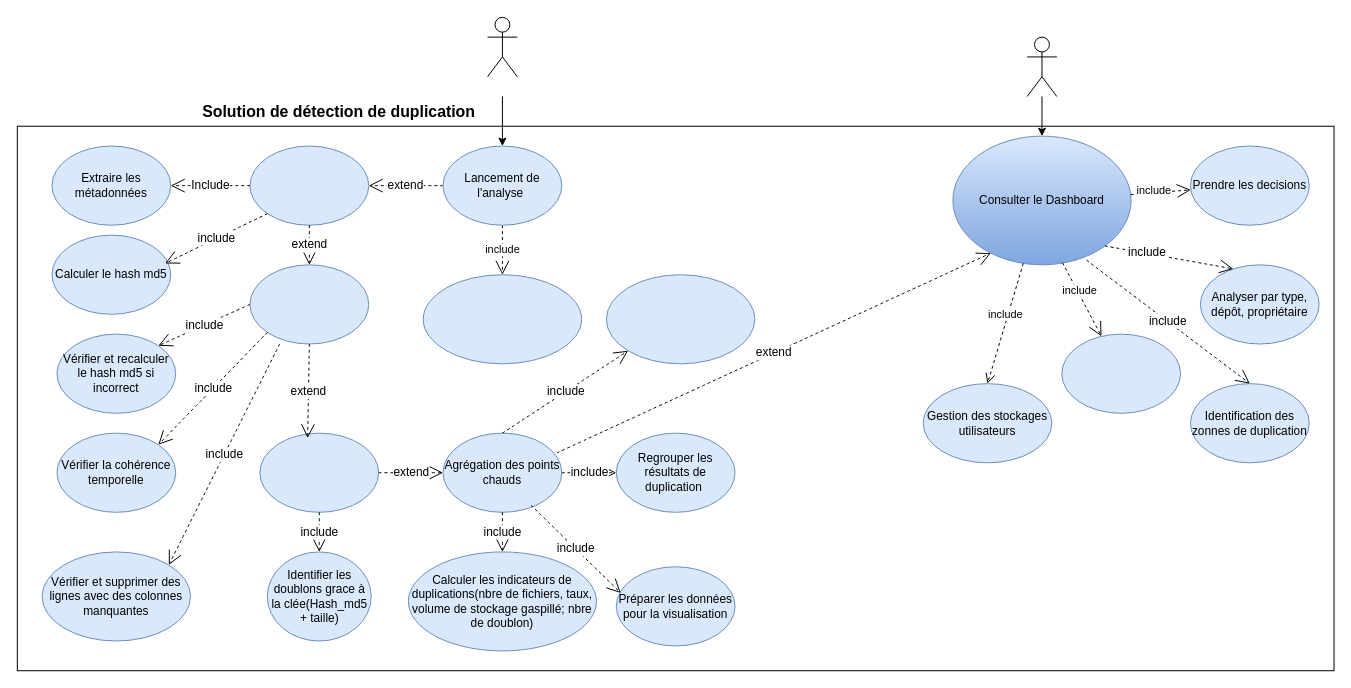
Some shapes in this 1351 by 688 pixel diagram are drawn without their labels. The box of each missing label's shape, as (x1, y1, x2, y2) in pixels:
Admin: (487, 16, 517, 77)
Analyser par dimensions clés( répertoire, type de fichier, propriétaire): (605, 274, 755, 364)
Détection des doublons identiques: (259, 432, 379, 512)
Faire tourner le script sur l'espace de stockage utilisateur: (422, 274, 582, 364)
Nettoyer les données recoltées: (249, 264, 369, 344)
Scanner les fichiers: (249, 145, 369, 225)
Utilisateur: (1026, 36, 1057, 97)
Visualiser les KPIs: (1061, 333, 1181, 413)
